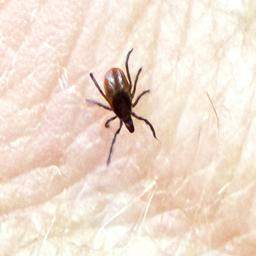Ixodes scapularis: (85, 48, 159, 166)
